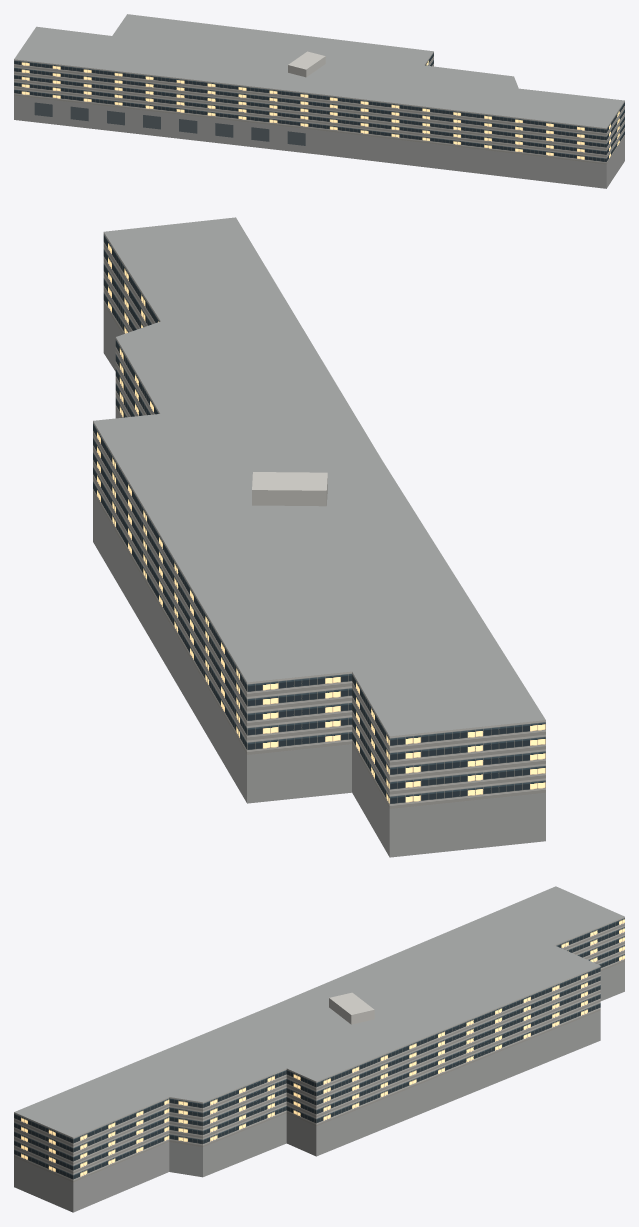
The model's file is kalkbreite.glb.
3 renders of one model, top to bottom at view 1: azimuth 30°, elevation 25°; view 2: azimuth 150°, elevation 25°; view 3: azimuth 270°, elevation 25°, orthographic. The views are drawn at different scales.
Visible parts, largest first — view 1: kalkbreite; view 2: kalkbreite; view 3: kalkbreite.
Boxes of the visible parts, bbox=[...] form: kalkbreite: bbox=[14, 14, 624, 188]; kalkbreite: bbox=[93, 217, 545, 857]; kalkbreite: bbox=[14, 886, 624, 1212].
Bounding box in the file's own units: 180 × 28.2 × 185.
Materials: 2 (2 with a texture image).
